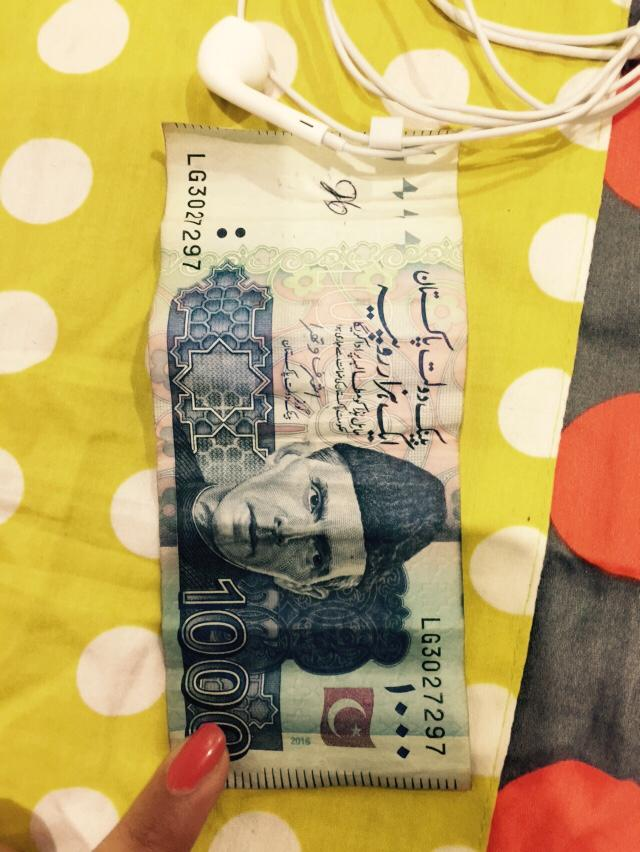1000 rupee: (141, 118, 507, 819)
